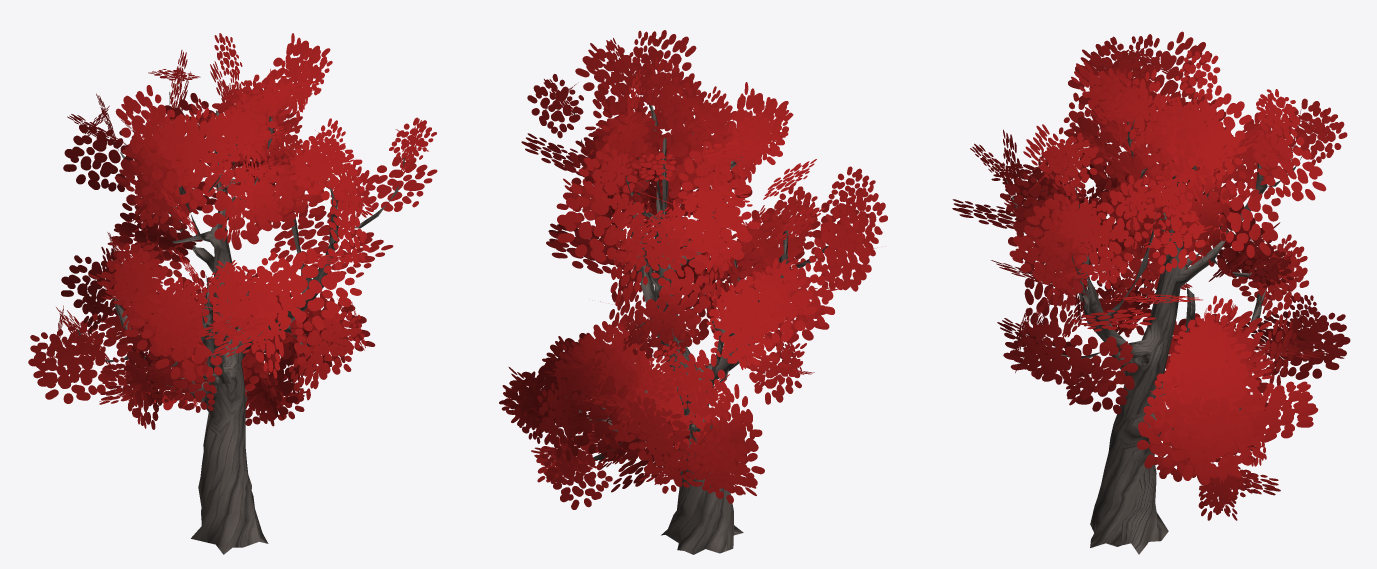
The model's file is TwistedTree_3.gltf.
3 views of the same model, side by side, from view 1: azimuth 30°, elevation 25°; view 2: azimuth 150°, elevation 25°; view 3: azimuth 270°, elevation 25° (orthographic). The views are drawn at different scales.
Visible parts, largest first — view 1: TwistedTree_3; view 2: TwistedTree_3; view 3: TwistedTree_3.
Boxes of the visible parts, x1,y1,x2,y2 form: TwistedTree_3: (28, 33, 437, 554); TwistedTree_3: (499, 30, 887, 554); TwistedTree_3: (952, 31, 1350, 554).
Bounding box in the file's own units: 12.63 × 16.82 × 12.51.
2 materials, 2 textured.
